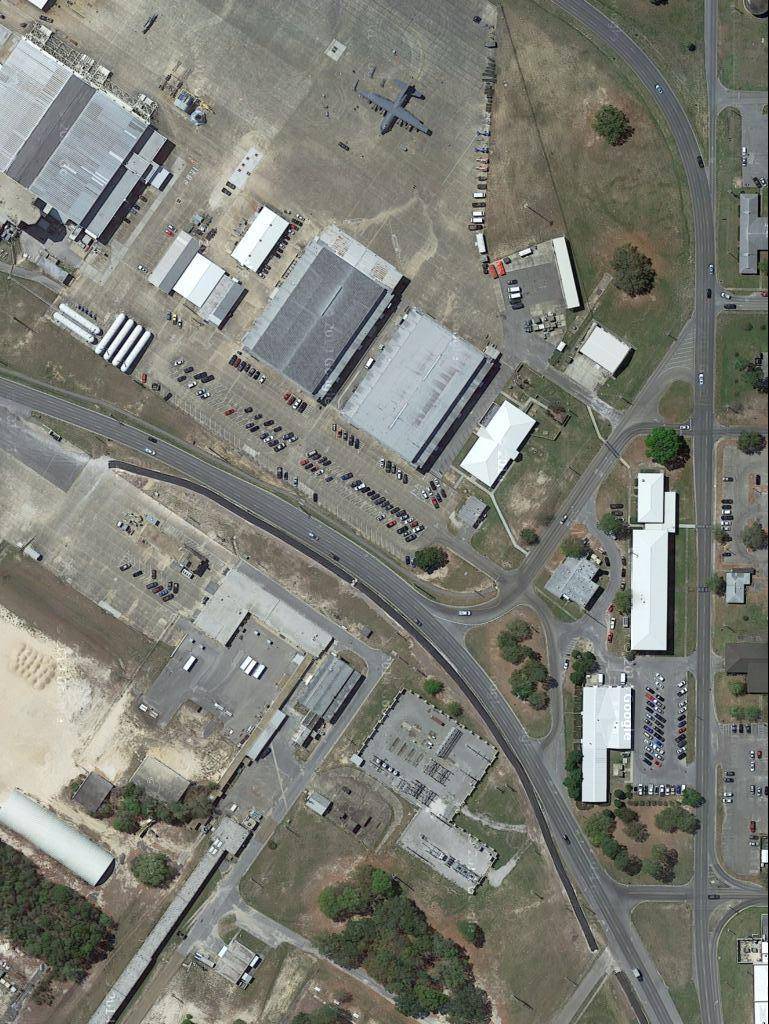C-130: (362, 71, 434, 141)
